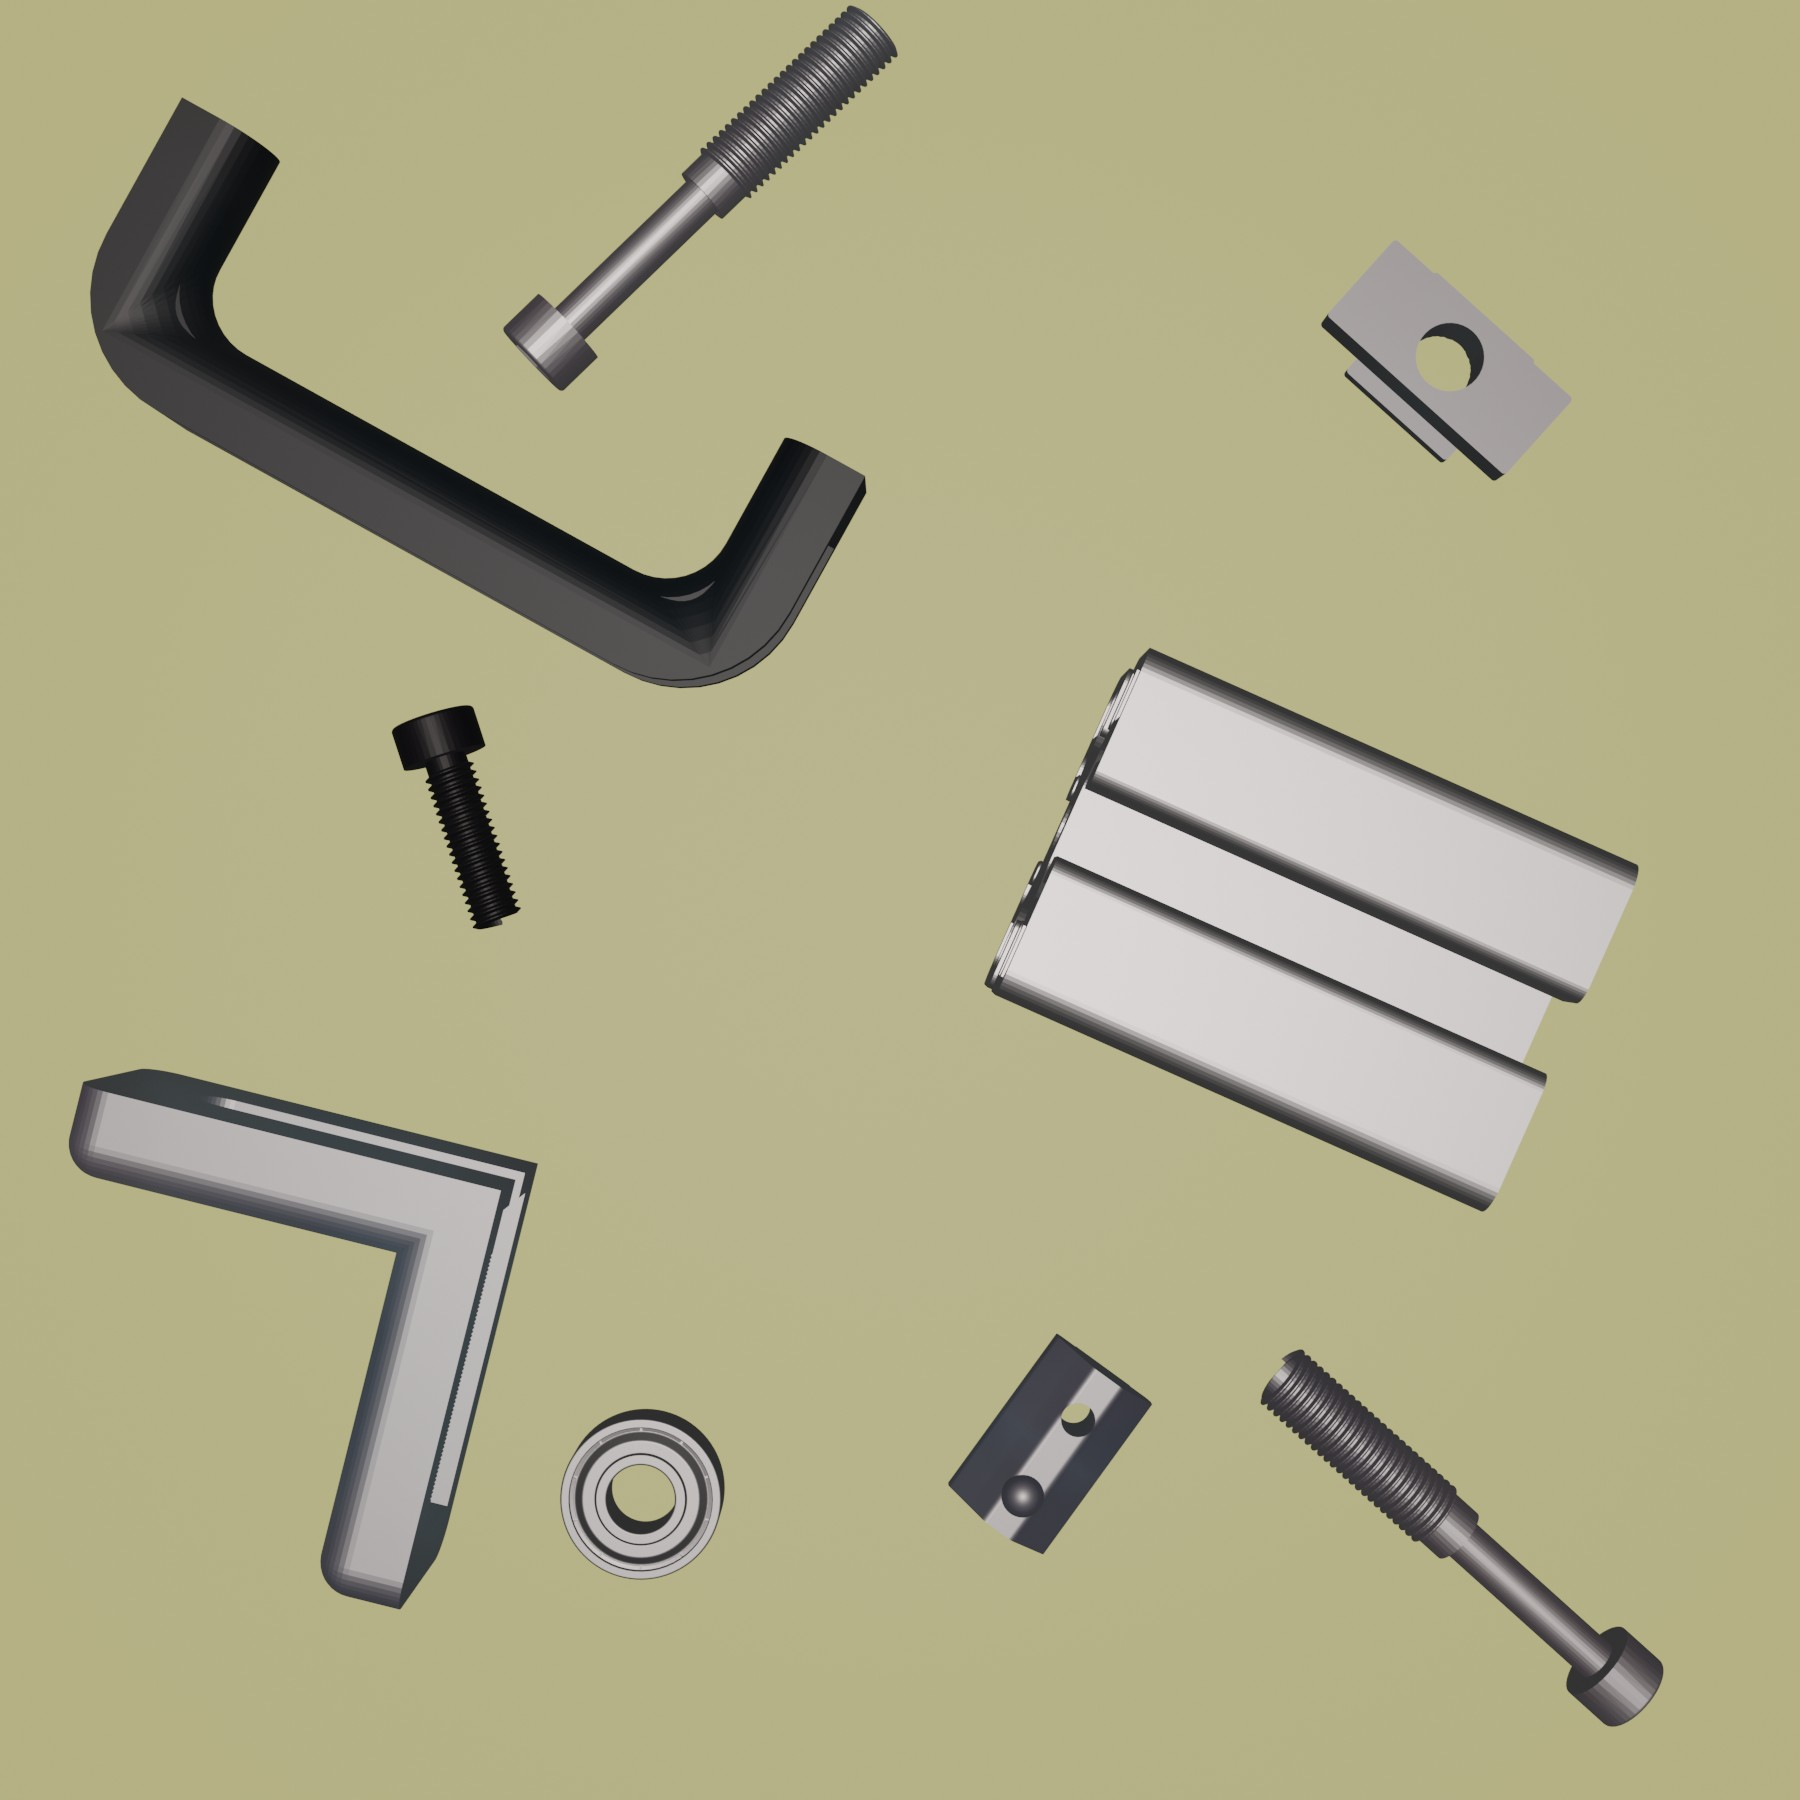Aluminium Extension: (982, 643, 1640, 1213)
Ball Bearing: (555, 1408, 729, 1581)
Multiwinkel: (68, 1065, 539, 1612)
Pull Handle: (87, 92, 869, 689)
Shoulder Socket Head Cap Screw: (1254, 1345, 1666, 1731), (499, 3, 902, 396)
Socket Head Cap Screw: (392, 702, 521, 935)
T Nut Square: (1319, 237, 1576, 485)
T Spring Nut: (946, 1330, 1155, 1554)
